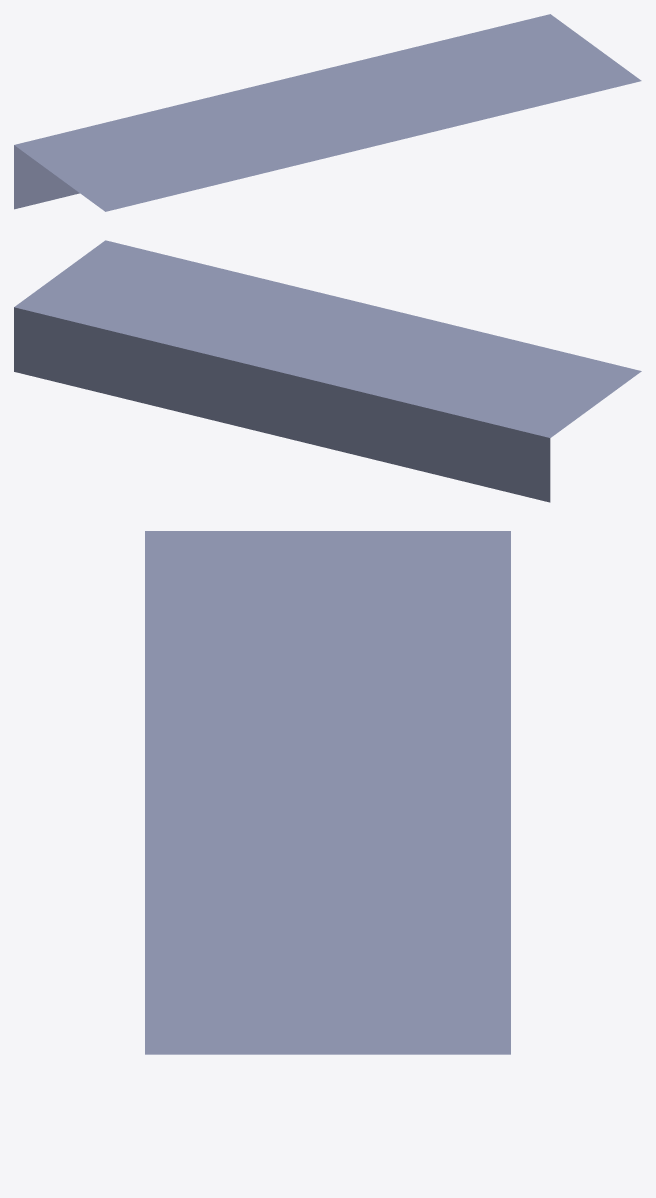
The model's file is PoolSide2.fbx.
3 views of the same model, one above another, from view 1: azimuth 30°, elevation 25°; view 2: azimuth 150°, elevation 25°; view 3: azimuth 270°, elevation 25° (orthographic). The views are drawn at different scales.
Visible parts, largest first — view 1: Pool.002; view 2: Pool.002; view 3: Pool.002.
Boxes of the visible parts, left/top/right/bottom form: Pool.002: left=14, top=14, right=641, bottom=211; Pool.002: left=14, top=240, right=641, bottom=502; Pool.002: left=145, top=531, right=510, bottom=1054.
Size of the model in its own units: 1170 by 134 by 346.
